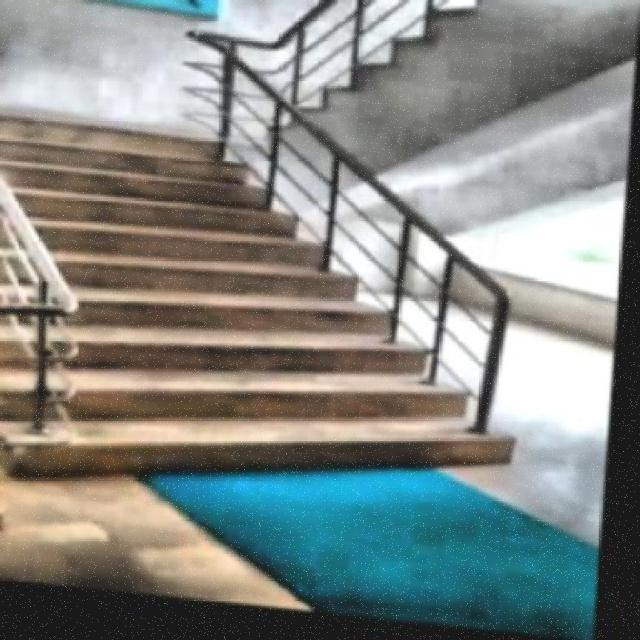stair: (1, 116, 554, 514)
